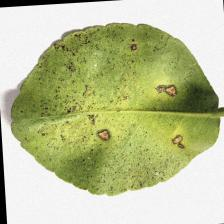canker: (49, 31, 190, 170)
